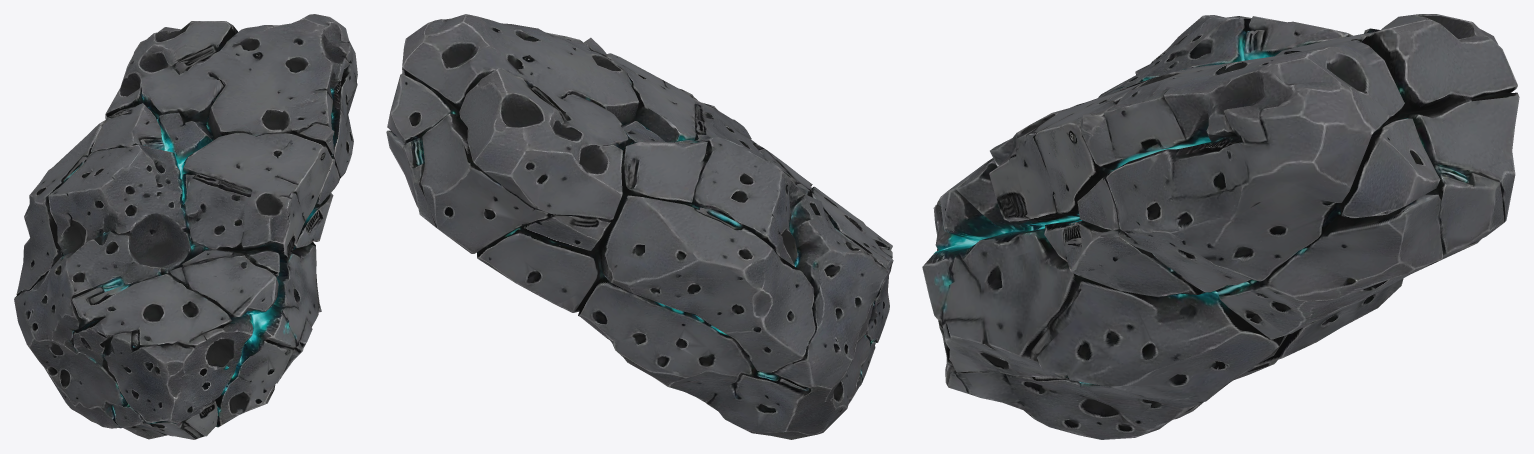
Rendered from prop-rock2.glb.
3 renders of one model, left to right at view 1: azimuth 30°, elevation 25°; view 2: azimuth 150°, elevation 25°; view 3: azimuth 270°, elevation 25°, orthographic. The views are drawn at different scales.
Parts seen in each view (by area): view 1: body; view 2: body; view 3: body.
Boxes of the visible parts, left/top/right/bottom form: body: left=14, top=14, right=357, bottom=439; body: left=386, top=14, right=893, bottom=439; body: left=922, top=14, right=1519, bottom=439.
Bounding box in the file's own units: 0.9996 × 0.8882 × 0.9091.
1 material, 1 textured.
